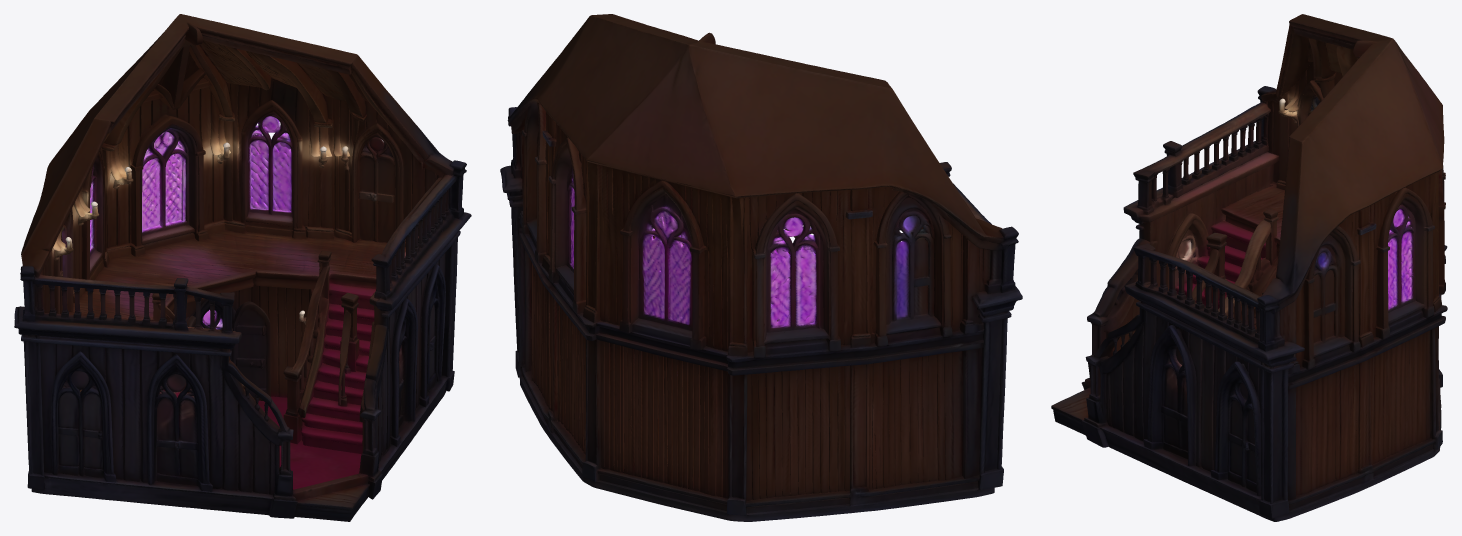
File: upper-gallery.glb
3 renders of one model, left to right at view 1: azimuth 30°, elevation 25°; view 2: azimuth 150°, elevation 25°; view 3: azimuth 270°, elevation 25°, orthographic. The views are drawn at different scales.
Visible parts, largest first — view 1: model; view 2: model; view 3: model.
Boxes of the visible parts, <box> form: model: <box>14,14,471,521</box>; model: <box>500,14,1022,521</box>; model: <box>1051,14,1447,521</box>.
Size of the model in its own units: 1.91 by 1.54 by 1.44.
Materials: 1 (1 with a texture image).
